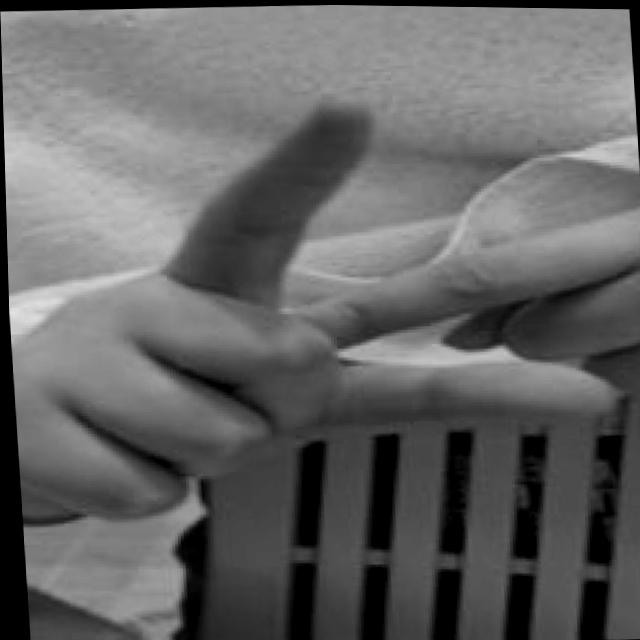J: (2, 66, 640, 530)
